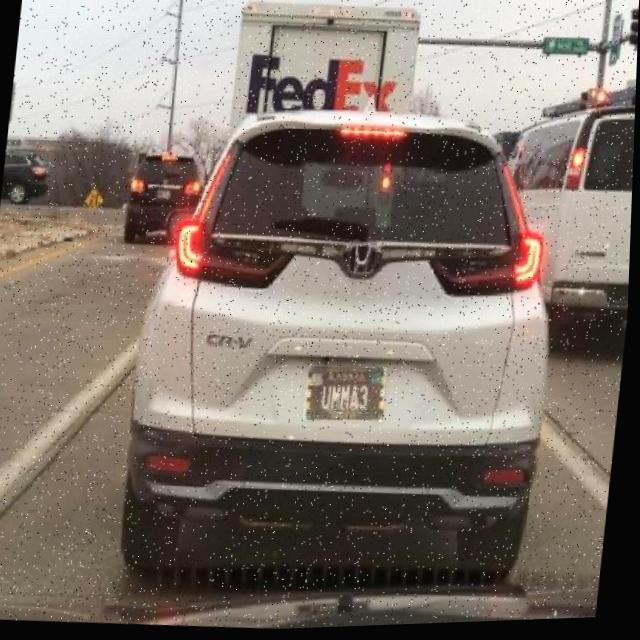LicensePlate: (308, 369, 389, 423)
